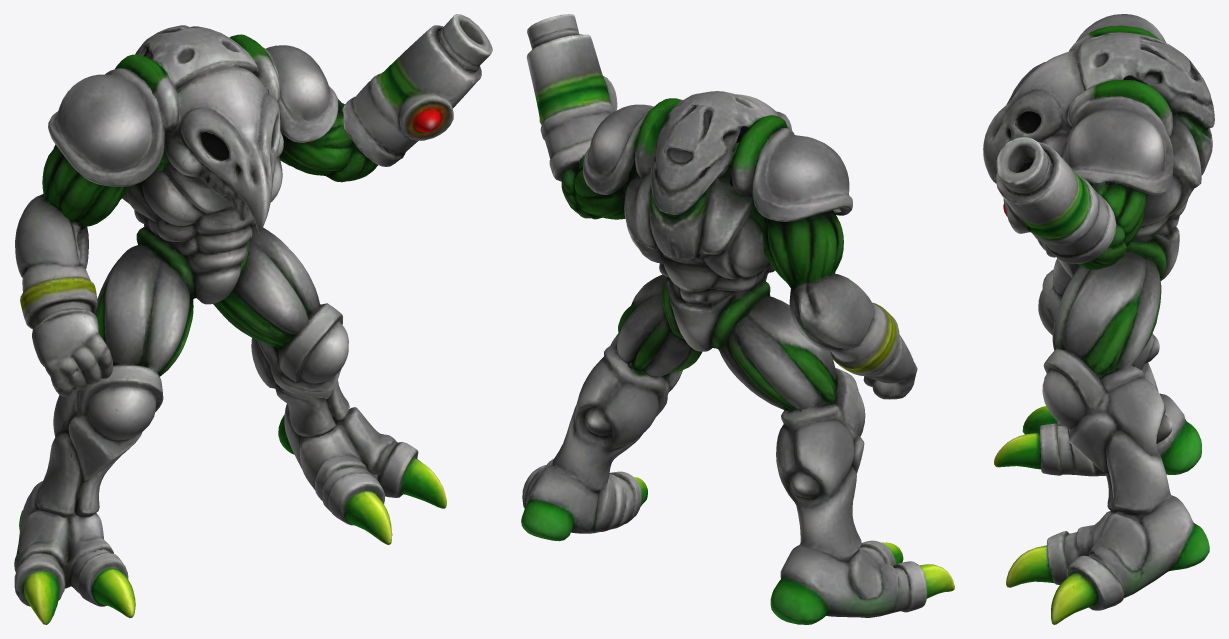
File: BOSSG1_2026-08-14T221133.021.glb
3 renders of one model, left to right at view 1: azimuth 30°, elevation 25°; view 2: azimuth 150°, elevation 25°; view 3: azimuth 270°, elevation 25°, orthographic. The views are drawn at different scales.
Visible parts, largest first — view 1: world; view 2: world; view 3: world.
Part boxes in pixels (x1=…): world: x1=14, y1=14, x2=492, y2=624; world: x1=521, y1=14, x2=954, y2=624; world: x1=983, y1=14, x2=1214, y2=624.
Size of the model in its own units: 0.9189 by 1 by 0.4251.
1 material, 1 textured.
